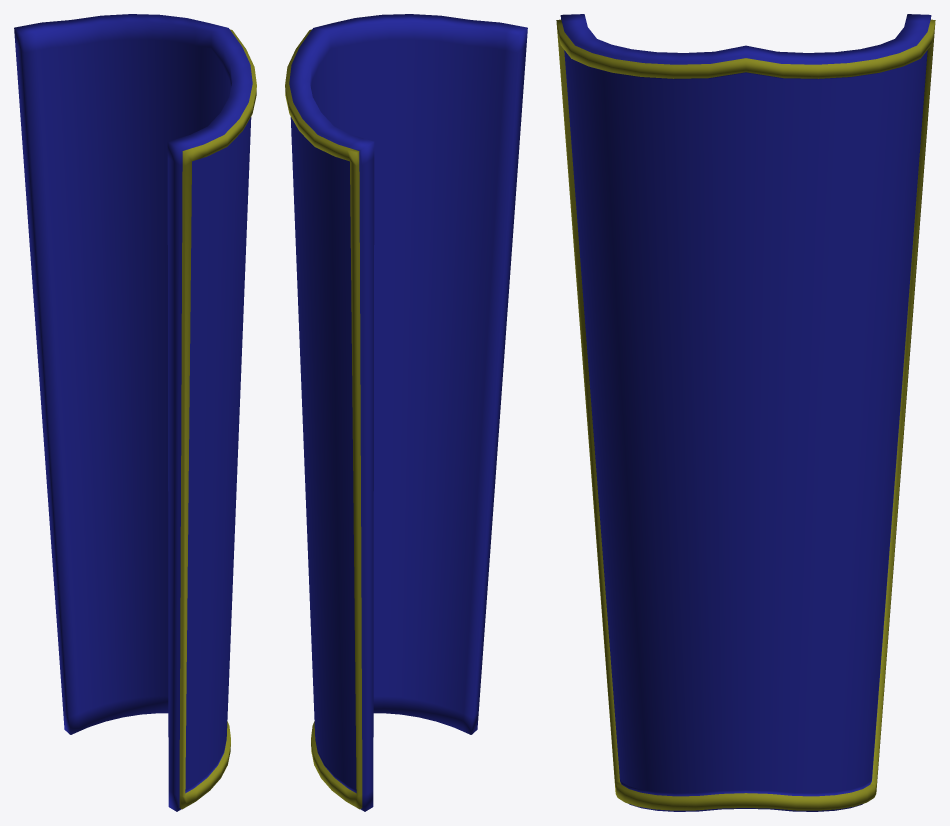
Rendered from grebas.fbx.
3 views of the same model, side by side, from view 1: azimuth 30°, elevation 25°; view 2: azimuth 150°, elevation 25°; view 3: azimuth 270°, elevation 25° (orthographic). The views are drawn at different scales.
Parts seen in each view (by area): view 1: Cylinder; view 2: Cylinder; view 3: Cylinder.
Boxes of the visible parts, x1,y1,x2,y2 form: Cylinder: [14, 14, 256, 811]; Cylinder: [285, 14, 527, 811]; Cylinder: [556, 14, 935, 811].
Size of the model in its own units: 6.57 by 32.8 by 14.09.
